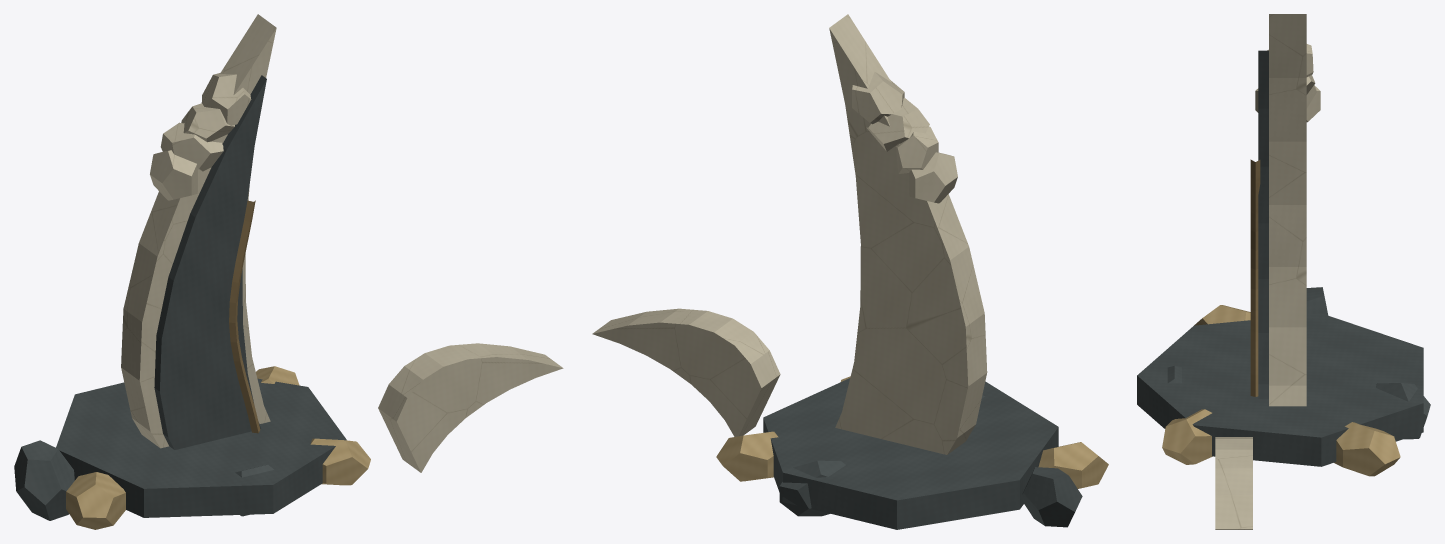
File: broken-spire.glb
3 renders of one model, left to right at view 1: azimuth 30°, elevation 25°; view 2: azimuth 150°, elevation 25°; view 3: azimuth 270°, elevation 25°, orthographic.
Parts seen in each view (by area): view 1: basalt, ceramic, sand, bronze; view 2: ceramic, basalt, sand; view 3: basalt, ceramic, sand, bronze.
Boxes of the visible parts, <box> form: basalt: <box>14,75,346,520</box>; ceramic: <box>121,14,563,472</box>; sand: <box>66,366,370,529</box>; bronze: <box>229,200,260,433</box>; ceramic: <box>592,14,987,454</box>; basalt: <box>763,378,1082,529</box>; sand: <box>716,376,1108,488</box>; basalt: <box>1137,50,1430,466</box>; ceramic: <box>1215,14,1320,529</box>; sand: <box>1162,305,1400,476</box>; bronze: <box>1250,159,1260,396</box>.
Bounding box in the file's own units: 10.85 × 9.39 × 5.46.
4 materials, 4 textured.
